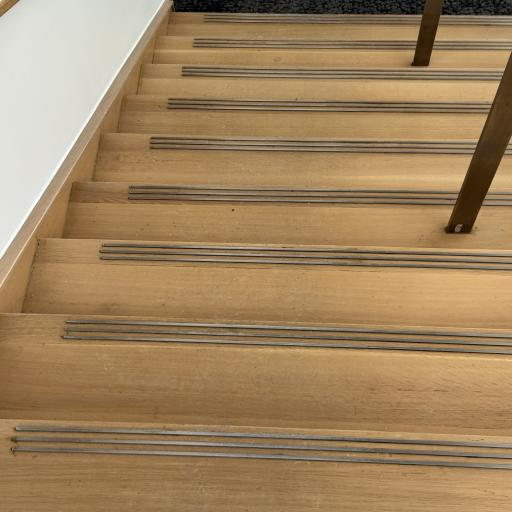Stairs: (0, 13, 512, 512)
